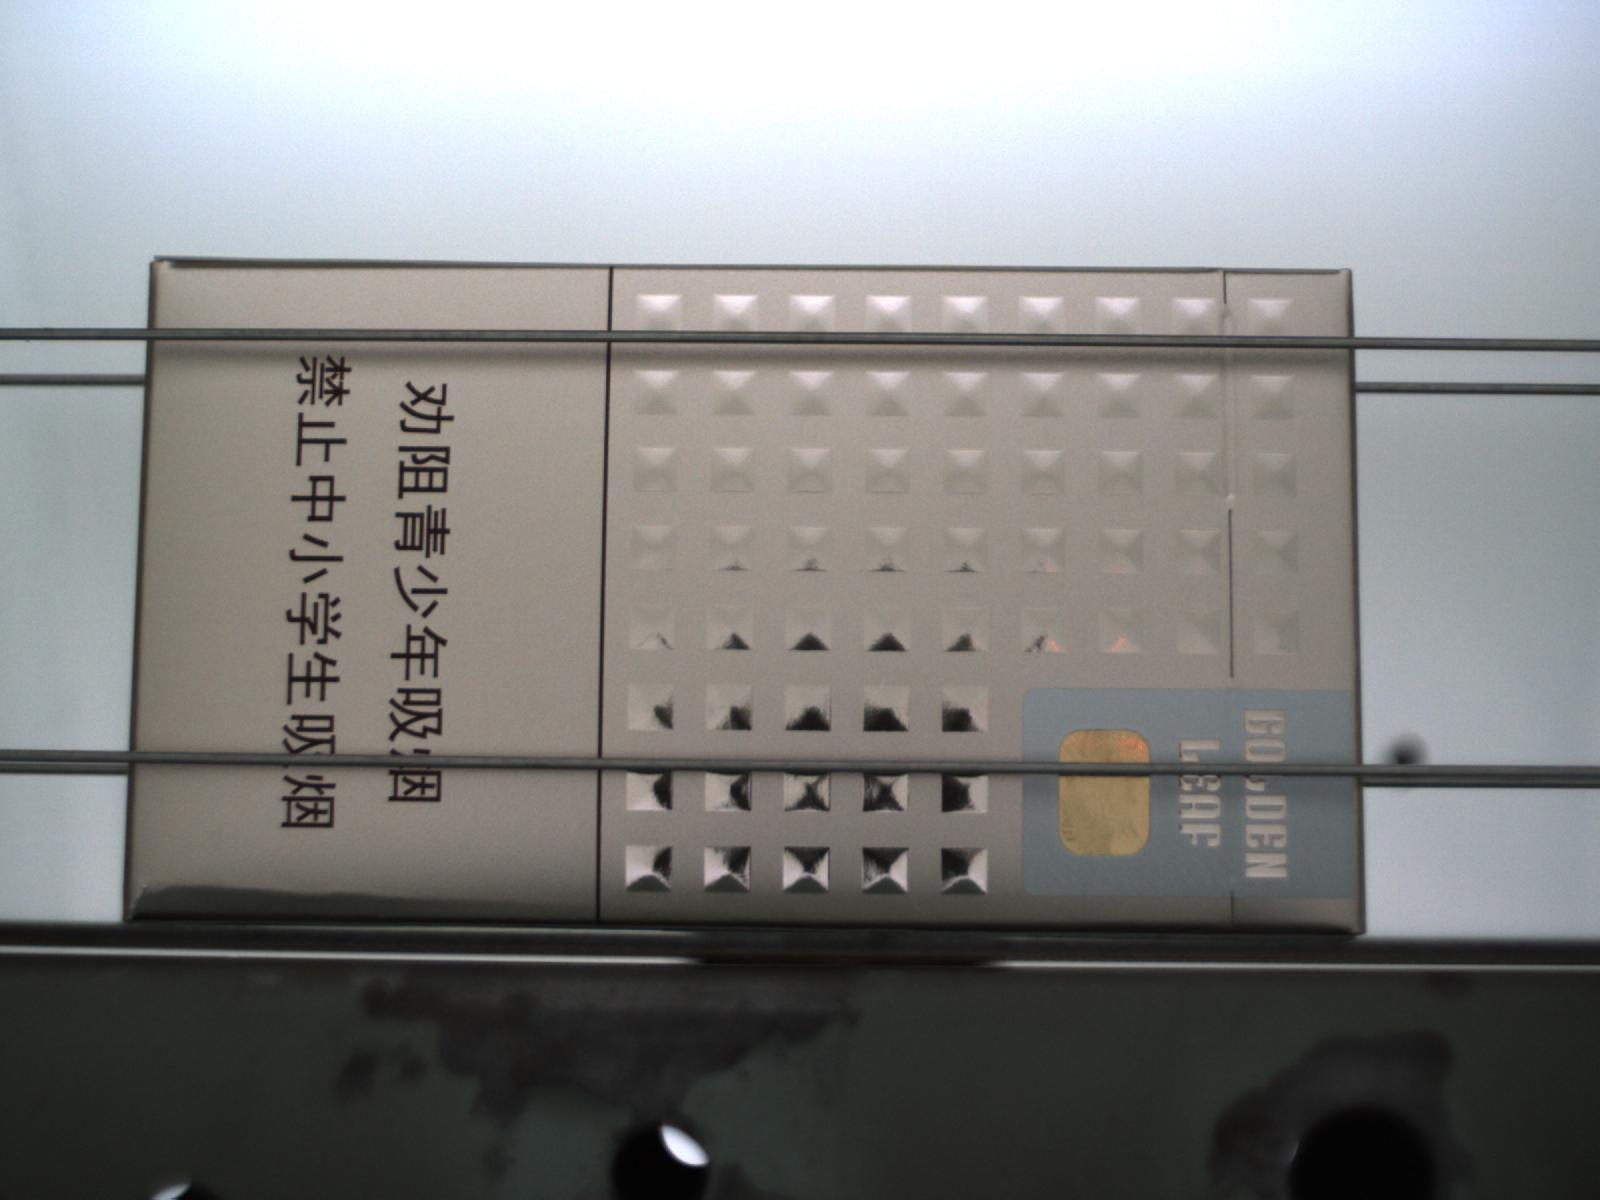dirtyScratch: (121, 880, 590, 929)
skewed_upper_0: (117, 879, 163, 926)
